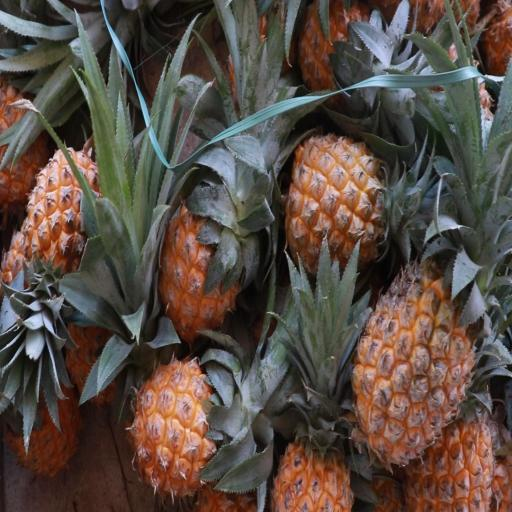Pineapple - v8 v1: (348, 238, 496, 478), (280, 128, 418, 294), (126, 347, 261, 503), (153, 184, 261, 356), (18, 139, 122, 311), (287, 0, 390, 126), (268, 366, 356, 512), (0, 56, 65, 222)
